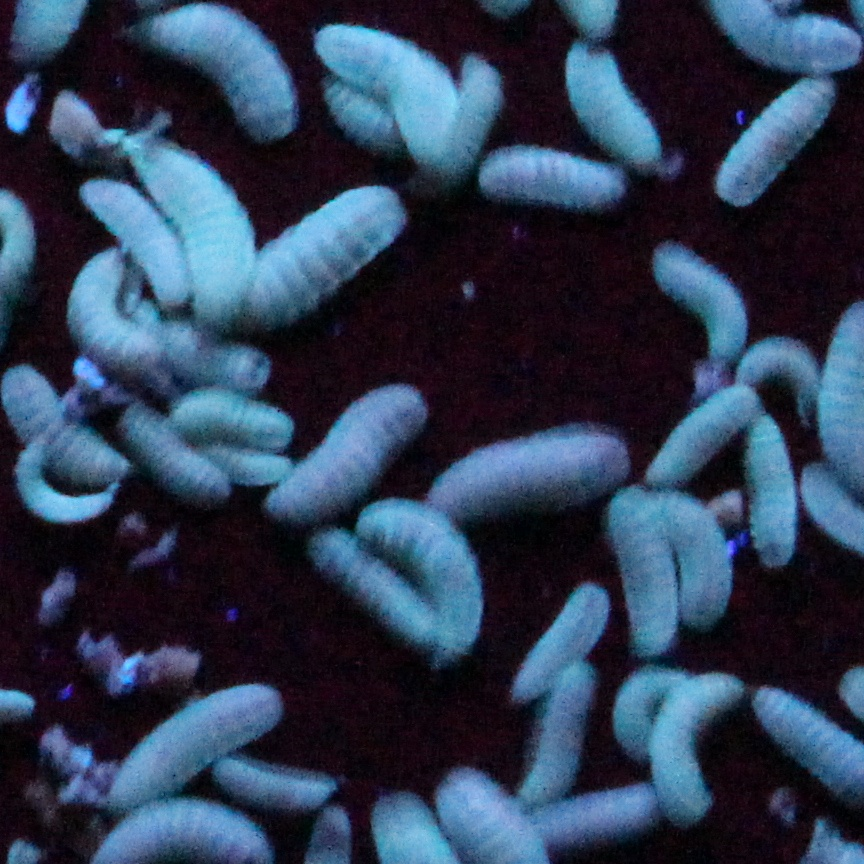larve: (220, 185, 416, 322), (100, 678, 289, 816), (339, 480, 490, 649), (313, 26, 471, 186), (257, 376, 426, 522), (423, 416, 638, 522), (638, 652, 749, 832), (71, 175, 208, 312), (307, 521, 446, 653), (635, 367, 767, 499), (646, 476, 746, 647), (712, 78, 838, 203), (594, 485, 697, 631), (466, 131, 633, 212), (510, 573, 610, 708), (564, 44, 666, 175), (7, 427, 125, 535), (644, 247, 749, 363), (738, 412, 805, 578), (156, 378, 294, 447)
